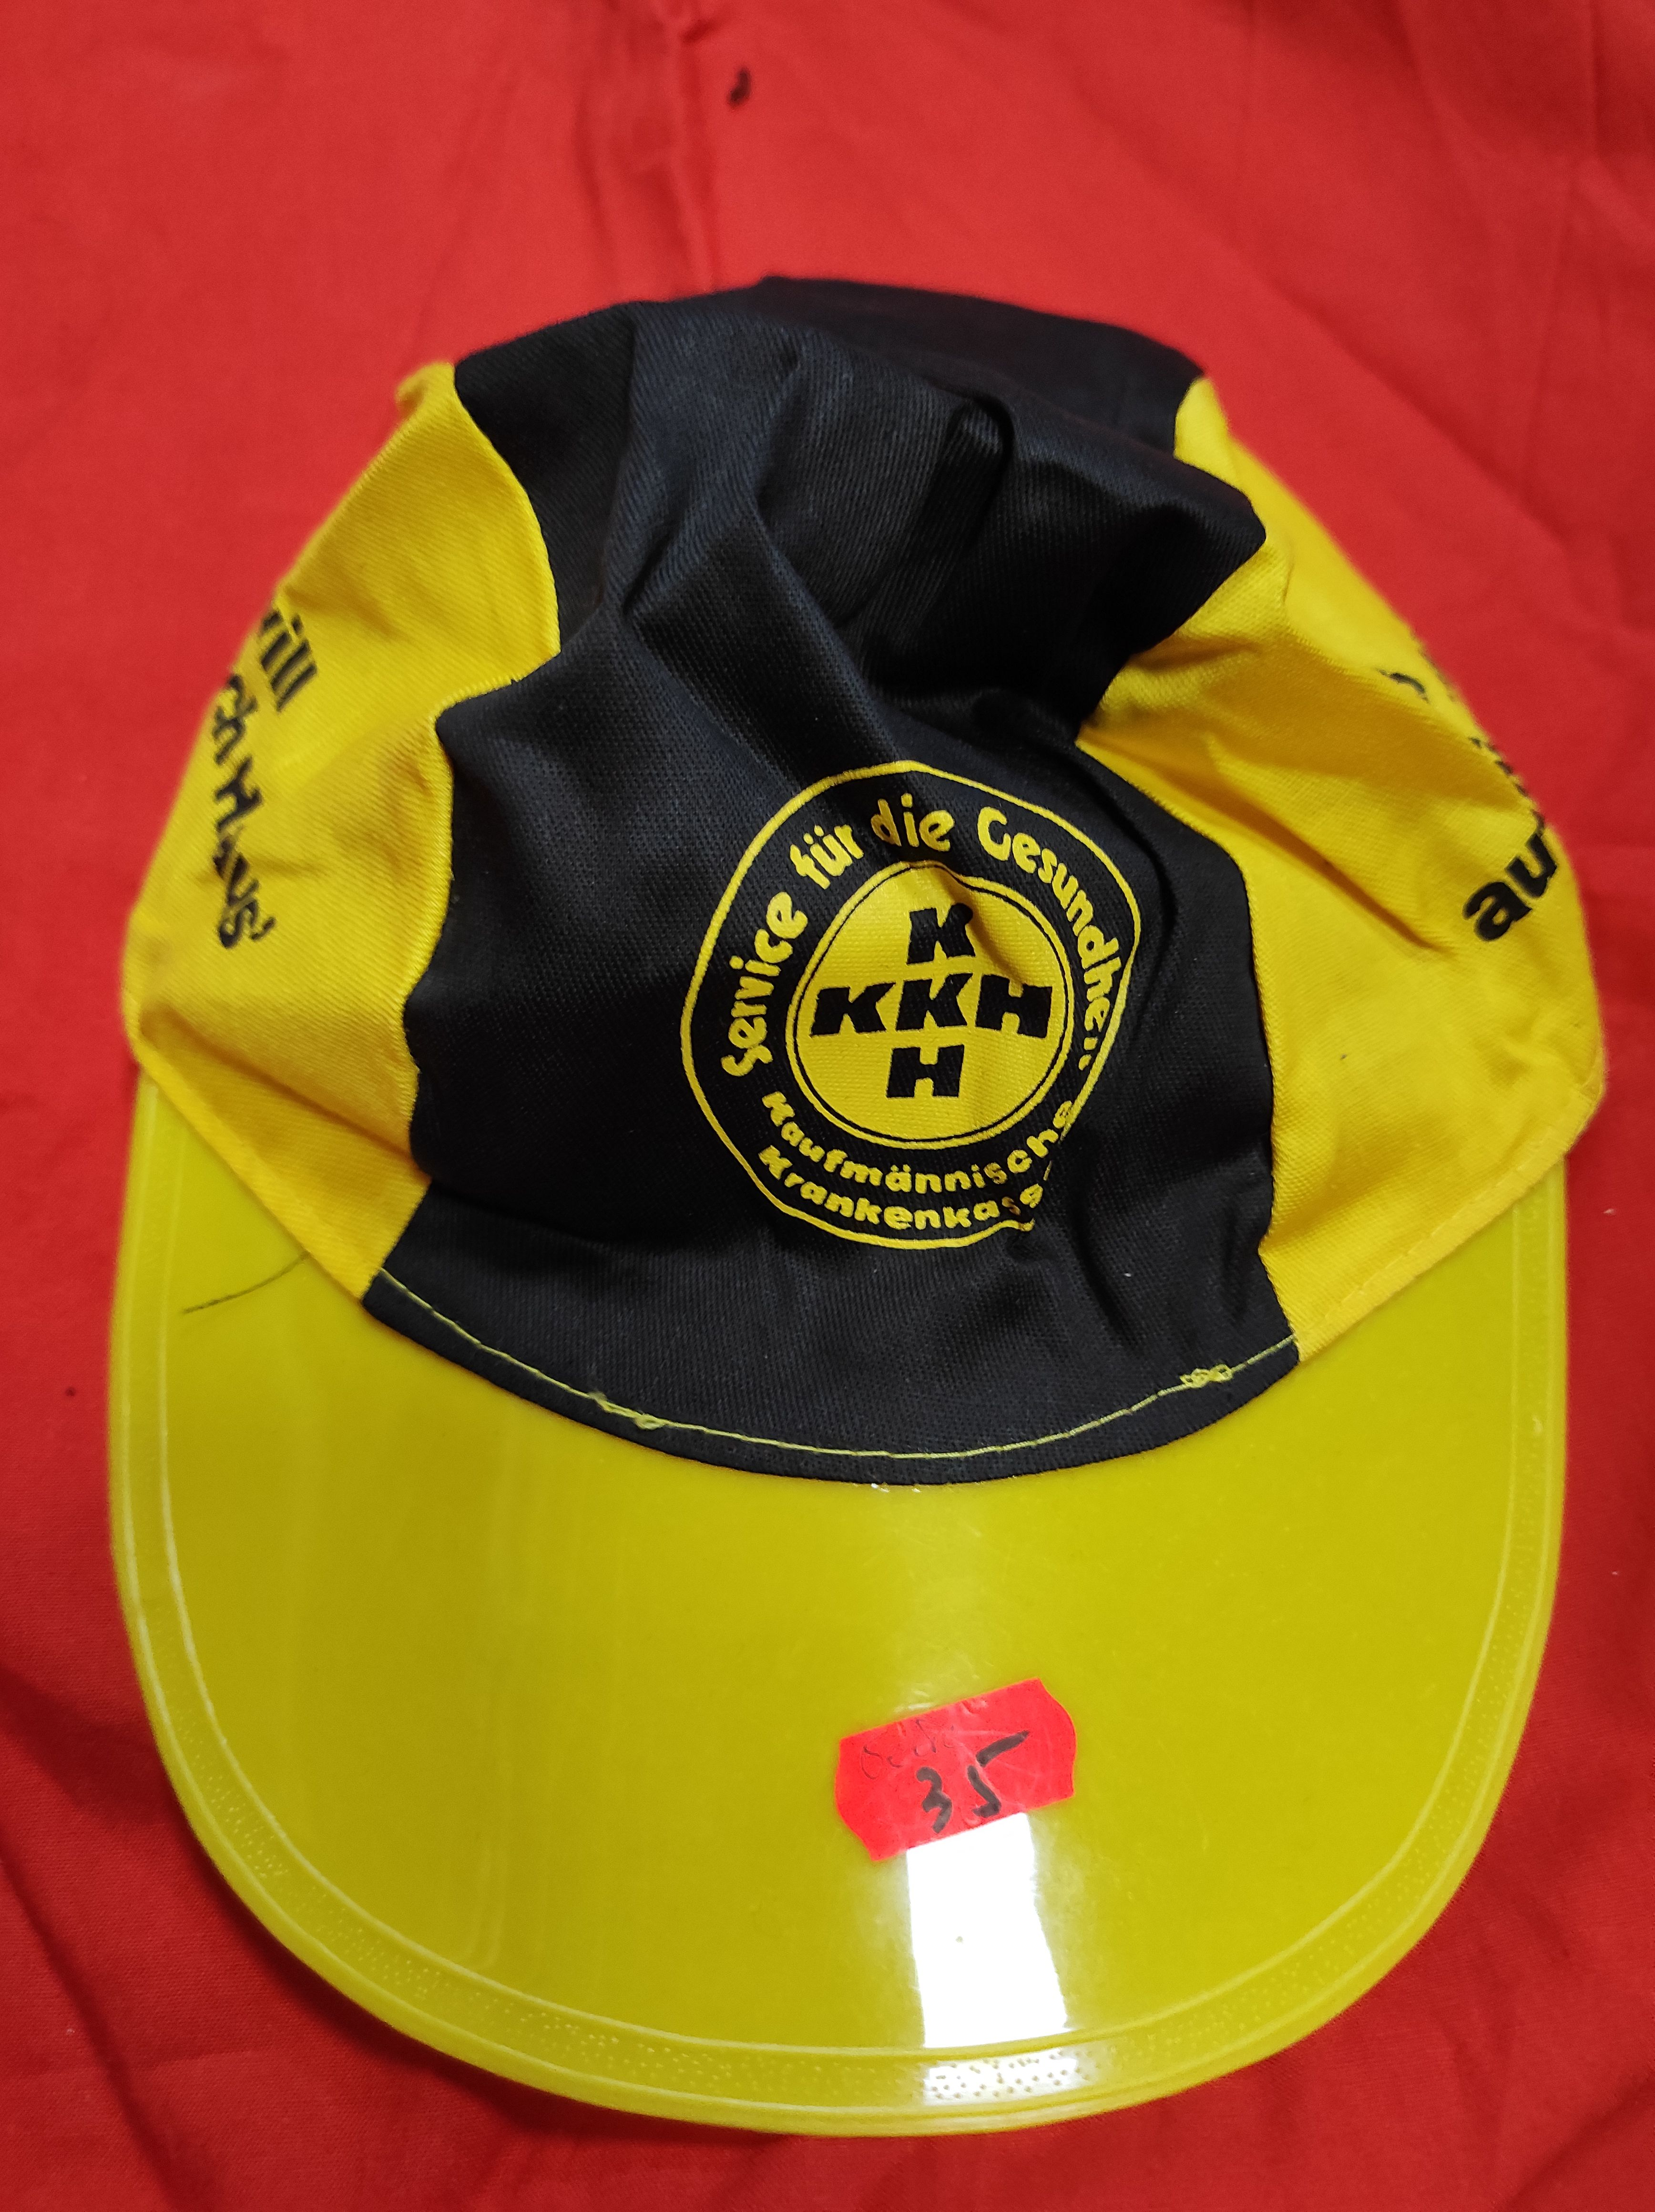clothes: (92, 275, 1617, 2127)
